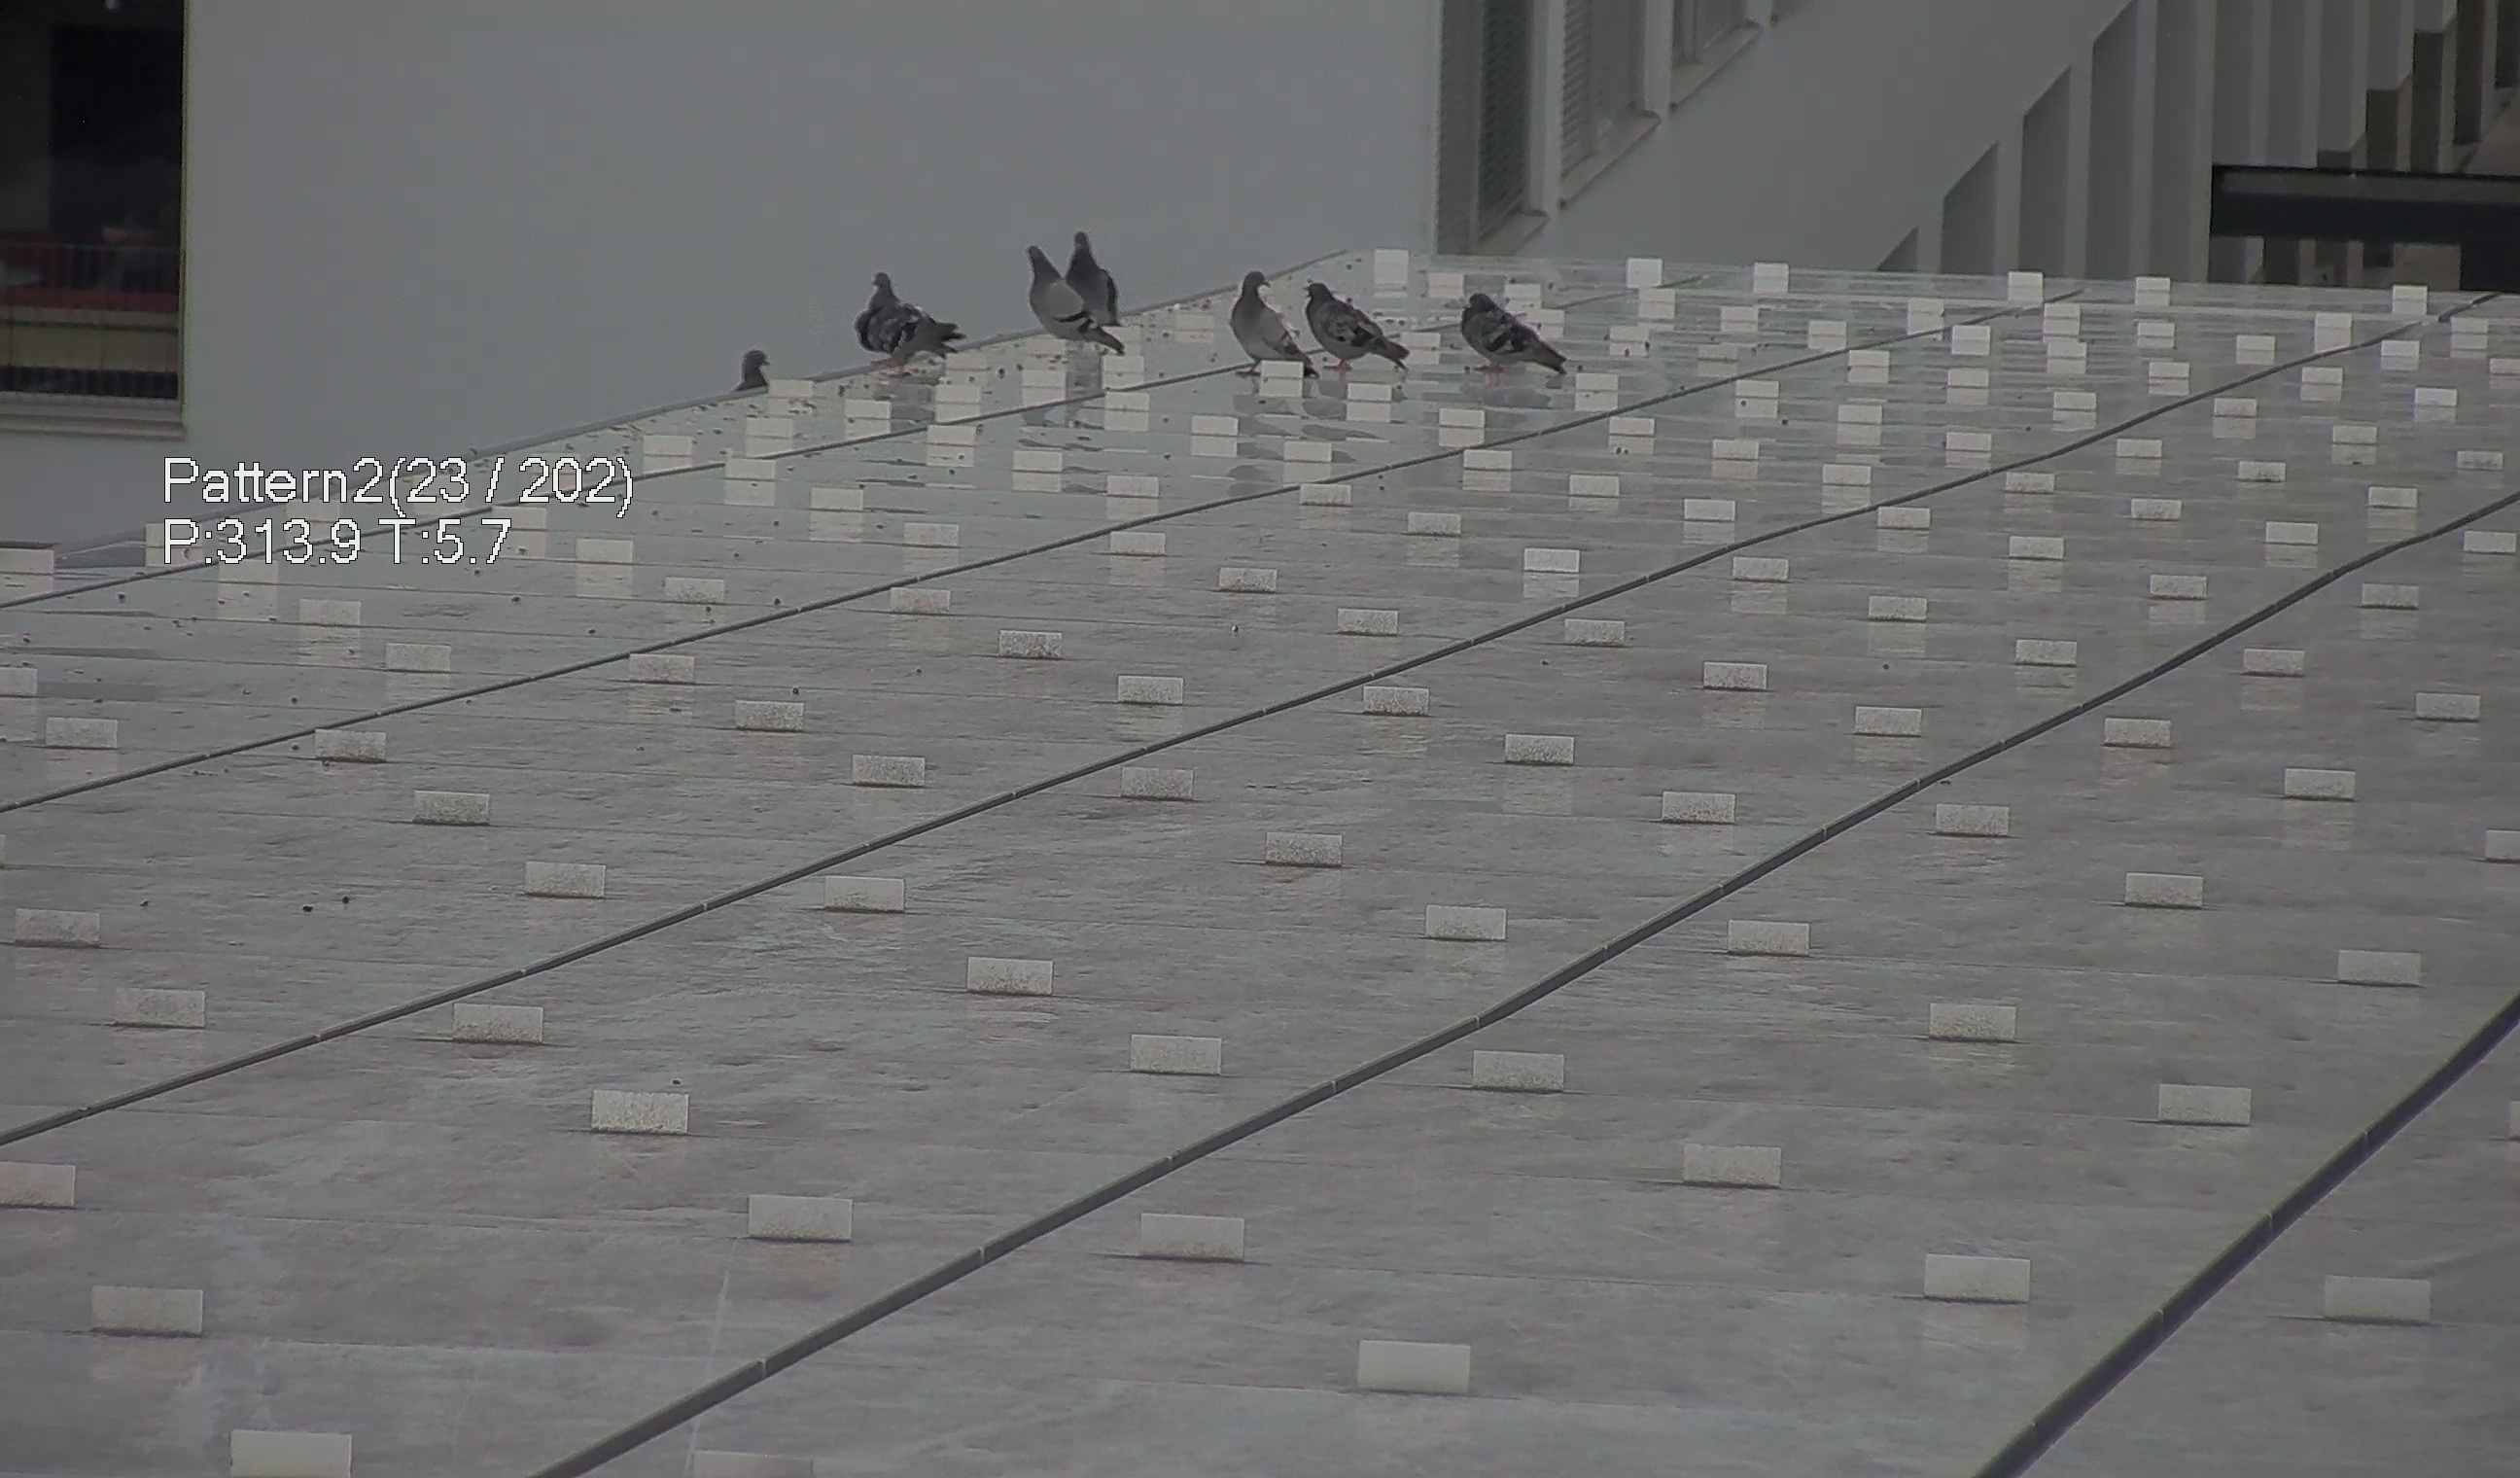Pigeon: (1289, 262, 1416, 377), (1447, 274, 1579, 384), (842, 253, 969, 362), (1023, 216, 1125, 348), (1219, 255, 1310, 385), (1062, 223, 1134, 348), (723, 334, 781, 396), (860, 260, 907, 310)
